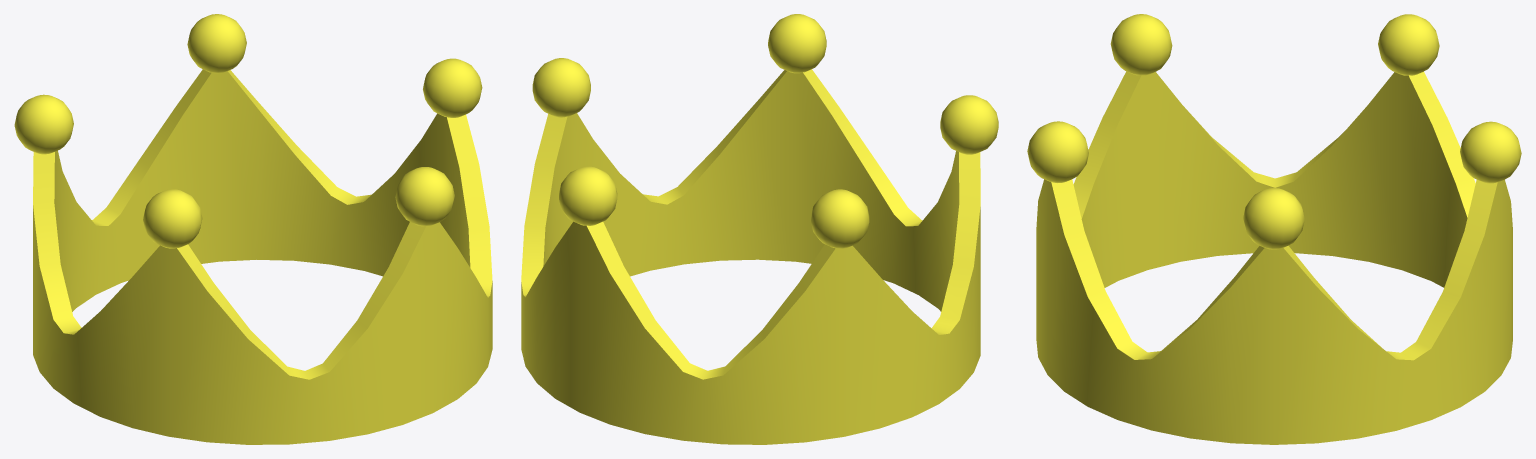
File: Cake_ThemeRoyal_E.FBX
3 views of the same model, side by side, from view 1: azimuth 30°, elevation 25°; view 2: azimuth 150°, elevation 25°; view 3: azimuth 270°, elevation 25° (orthographic). The views are drawn at different scales.
Parts seen in each view (by area): view 1: Cake_ThemeRoyal_E; view 2: Cake_ThemeRoyal_E; view 3: Cake_ThemeRoyal_E.
Part boxes in pixels (x1,y1,x2,y2): Cake_ThemeRoyal_E: (14, 14, 492, 444); Cake_ThemeRoyal_E: (521, 14, 998, 444); Cake_ThemeRoyal_E: (1027, 14, 1521, 444).
Bounding box in the file's own units: 94178 × 52274 × 93889.
